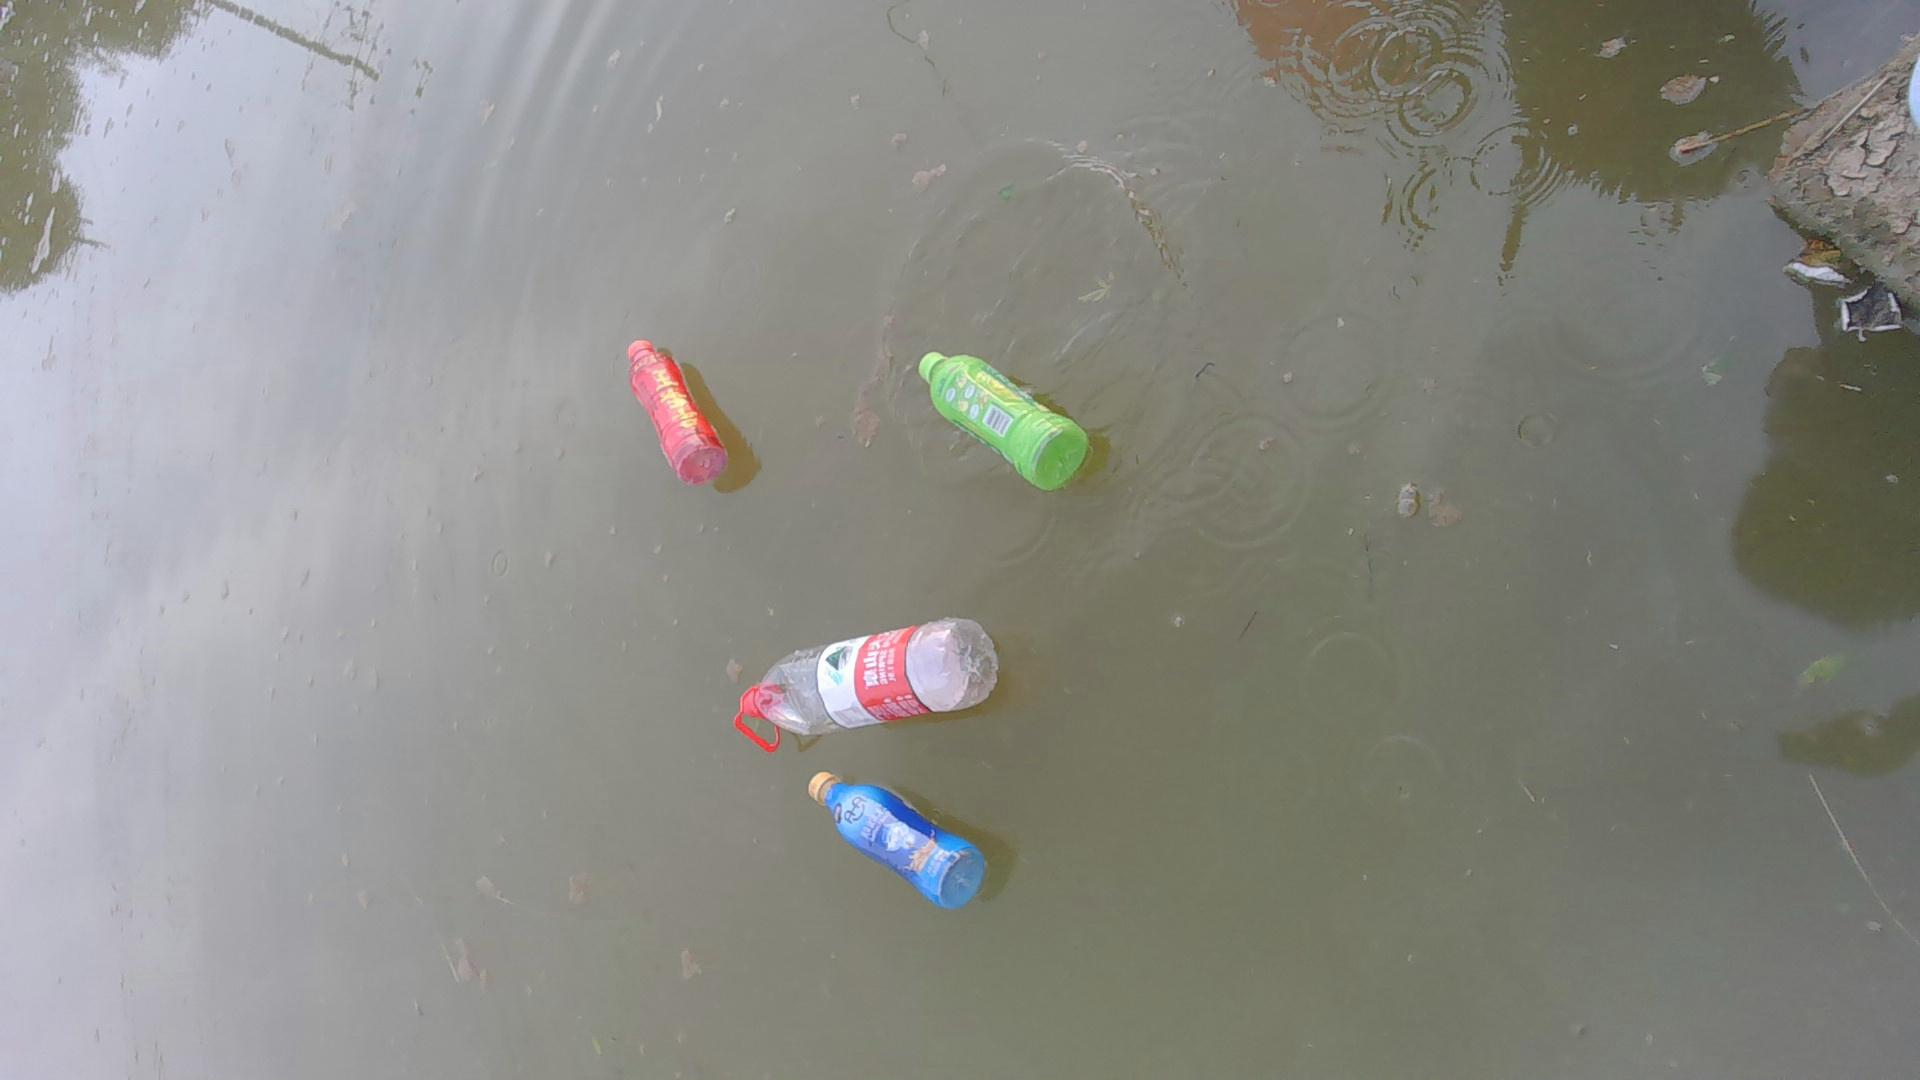Plastic: (709, 600, 998, 754), (803, 760, 997, 916), (916, 322, 1089, 497), (620, 323, 732, 495)
